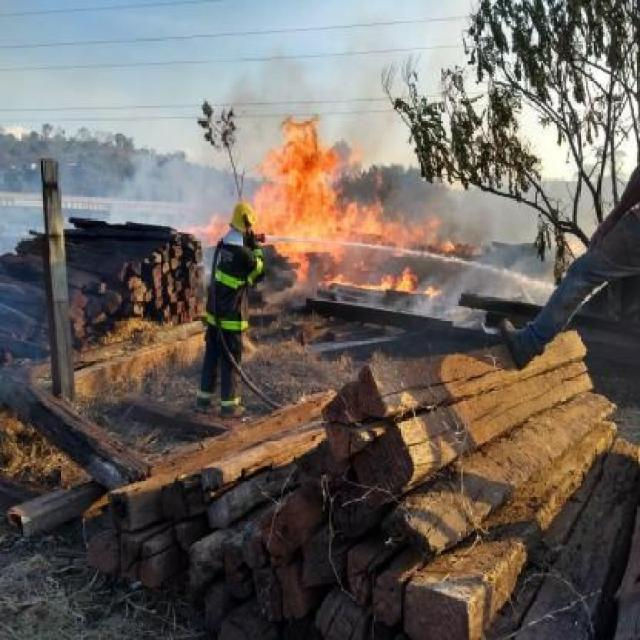Fire: (213, 119, 462, 318)
Smoke: (3, 128, 222, 272), (224, 41, 433, 168), (221, 0, 326, 192), (446, 153, 532, 330)
